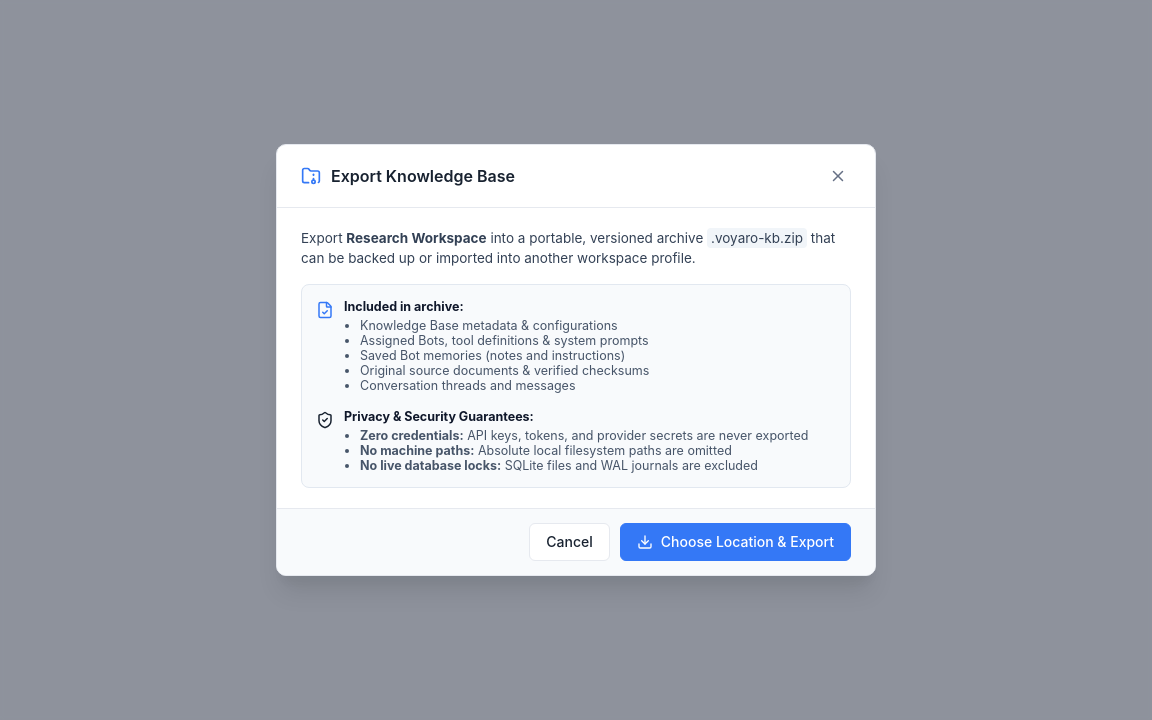
it: ExportKnowledgeBaseModal › triggers export via window.api and displays success state with counts
Click the button with test id "btn-confirm-export-kb": [735, 542] box left=620, top=524, right=851, bottom=561
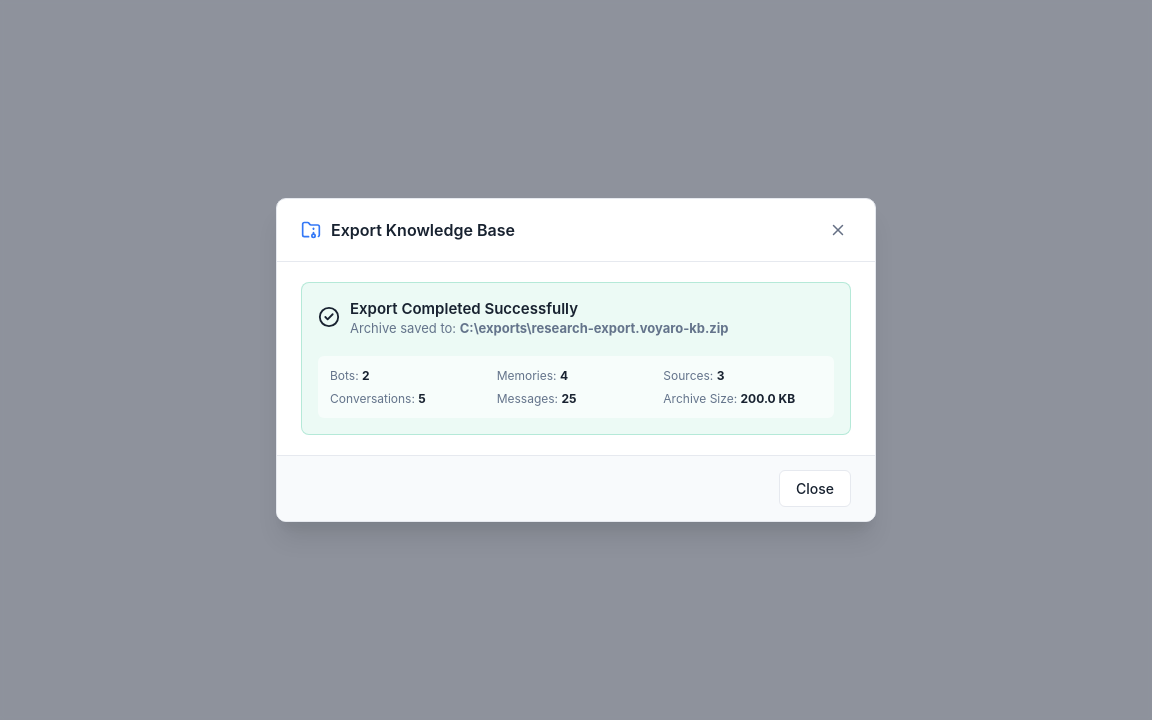
Now the element with test id "export-kb-success" is shown, box left=301, top=282, right=851, bottom=435
Now the heading "Export Completed Successfully" is shown, box left=350, top=299, right=578, bottom=318
Now the element with test id "export-kb-counts" is shown, box left=318, top=356, right=834, bottom=418
